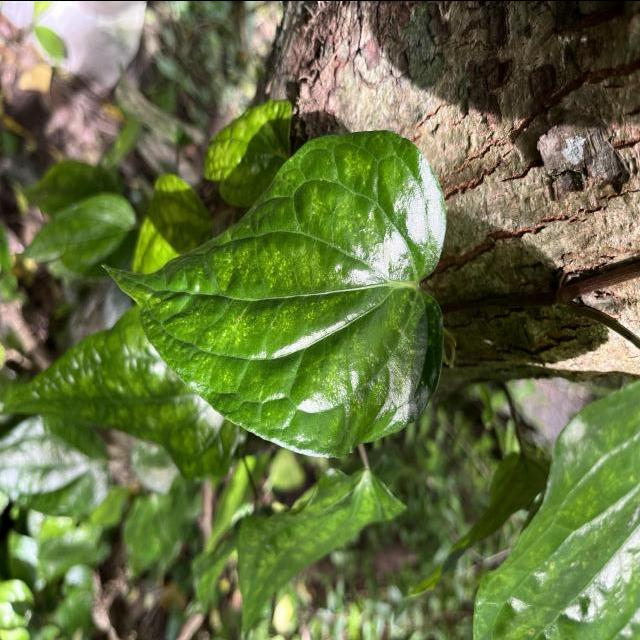Piper betle: (99, 126, 450, 462)
